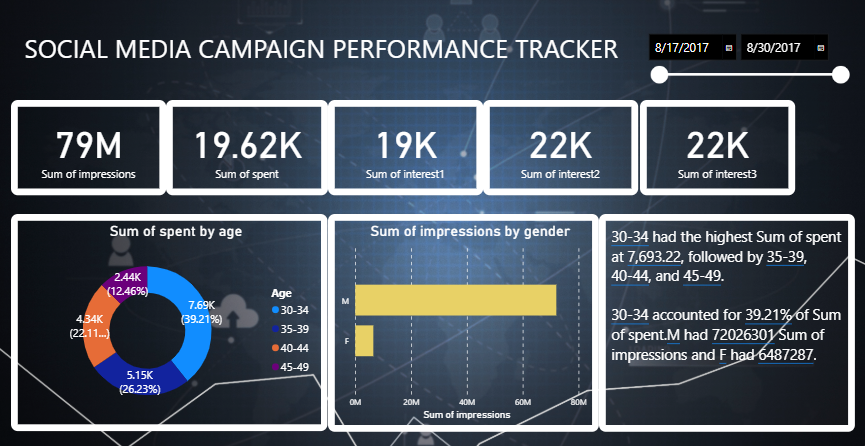

This screenshot's page, from the dashboard's own definition file:
{"tool":"powerbi","page":{"name":"Page 1","canvas":[1280,720],"ordinal":0},"visuals":[{"type":"card","fields":{"Values":["Sum(data.interest1)"]},"box":[486.4,152.8,227.8,139.6],"z":0},{"type":"donutChart","fields":{"Category":["data.age"],"Y":["Sum(data.spent)"]},"box":[20.2,320.8,465.3,319.2],"z":1000},{"type":"card","fields":{"Values":["Sum(data.impressions)"]},"box":[20.6,152.8,227.8,139.6],"z":2000},{"type":"card","fields":{"Values":["Sum(data.interest2)"]},"box":[714.1,152.8,227.8,139.6],"z":3000},{"type":"card","fields":{"Values":["Sum(data.interest3)"]},"box":[944.8,152.8,227.8,139.6],"z":4000},{"type":"card","fields":{"Values":["Sum(data.spent)"]},"box":[248.3,152.8,238,139.6],"z":5000},{"type":"clusteredBarChart","fields":{"Category":["data.gender"],"Y":["Sum(data.impressions)"]},"box":[486.4,320.3,398.2,320.3],"z":6000},{"type":"textbox","box":[884.6,320.3,376.2,320.3],"z":7000},{"type":"textbox","box":[35.3,45.6,902.2,72],"z":8000},{"type":"slicer","fields":{"Values":["data.reporting_start"]},"box":[944.8,45.6,315.9,101.4],"z":9000}]}

Visuals, with their boxes on the page's 1280x720 design canvas (x1, y1, x2, y2). These are canvas units, not pixel positions in the 865x446 screenshot, which may show the page scaled, cropped or inside an application window:
card - Sum(data.interest1): 486 153 714 292
donutChart - data.age x Sum(data.spent): 20 321 486 640
card - Sum(data.impressions): 21 153 248 292
card - Sum(data.interest2): 714 153 942 292
card - Sum(data.interest3): 945 153 1173 292
card - Sum(data.spent): 248 153 486 292
clusteredBarChart - data.gender x Sum(data.impressions): 486 320 885 641
textbox: 885 320 1261 641
textbox: 35 46 938 118
slicer - data.reporting_start: 945 46 1261 147
